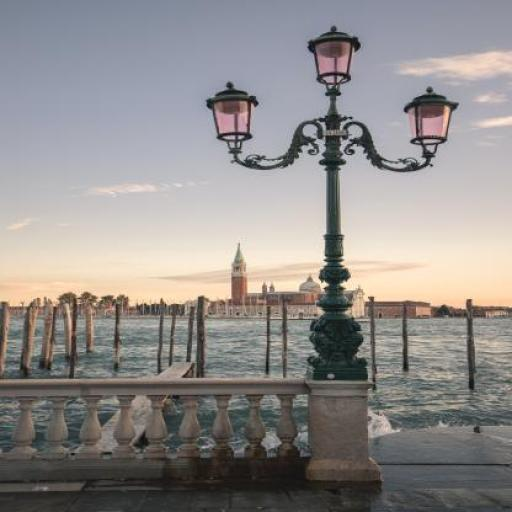street light: (206, 27, 460, 379)
